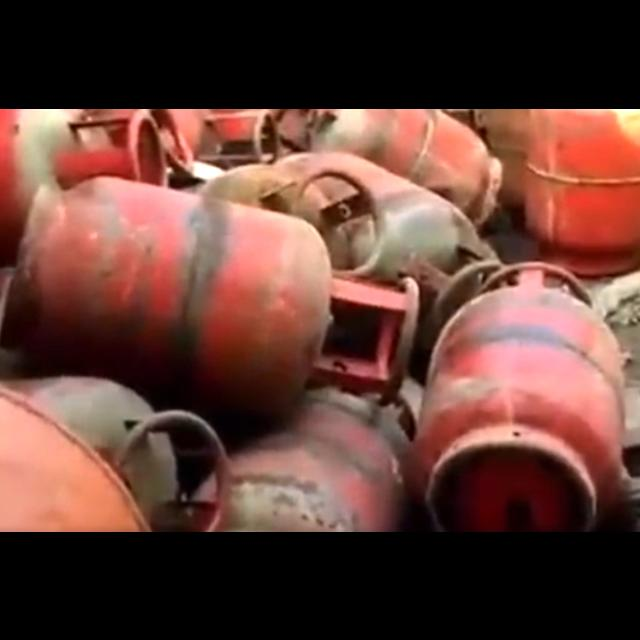Cylinders: (10, 174, 424, 406), (409, 255, 626, 529)
